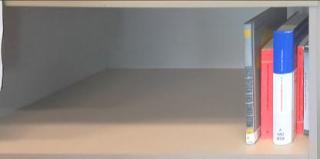book-spine: (273, 30, 292, 146), (243, 23, 255, 144), (261, 49, 273, 139), (297, 45, 304, 134), (303, 48, 309, 135)
